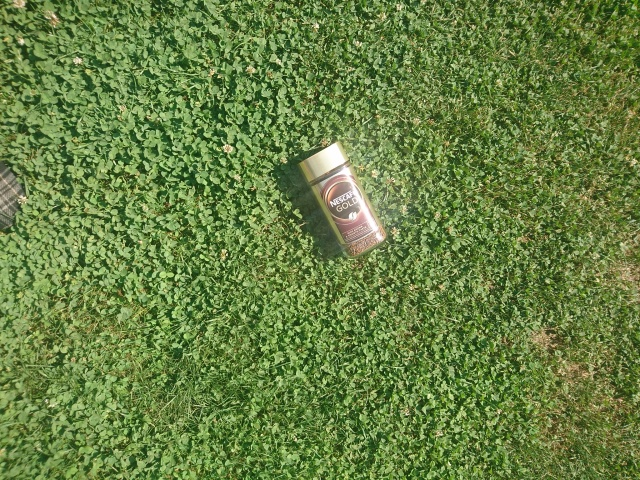Nescafe Gold 225g: (293, 137, 391, 262)
